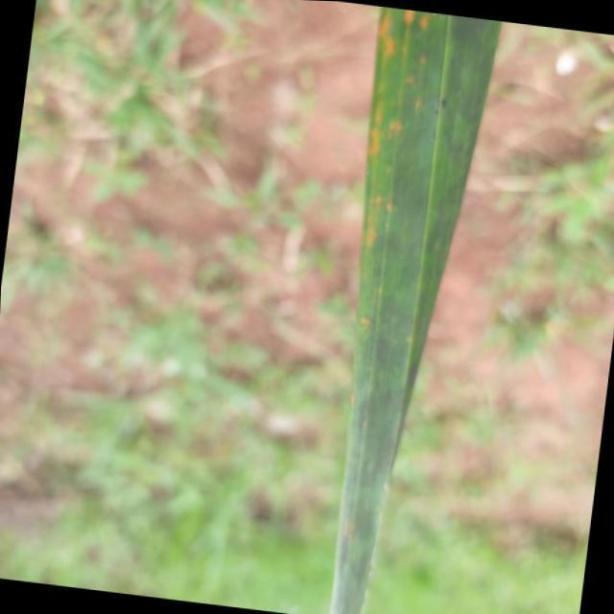Kalium: (332, 0, 504, 614)
